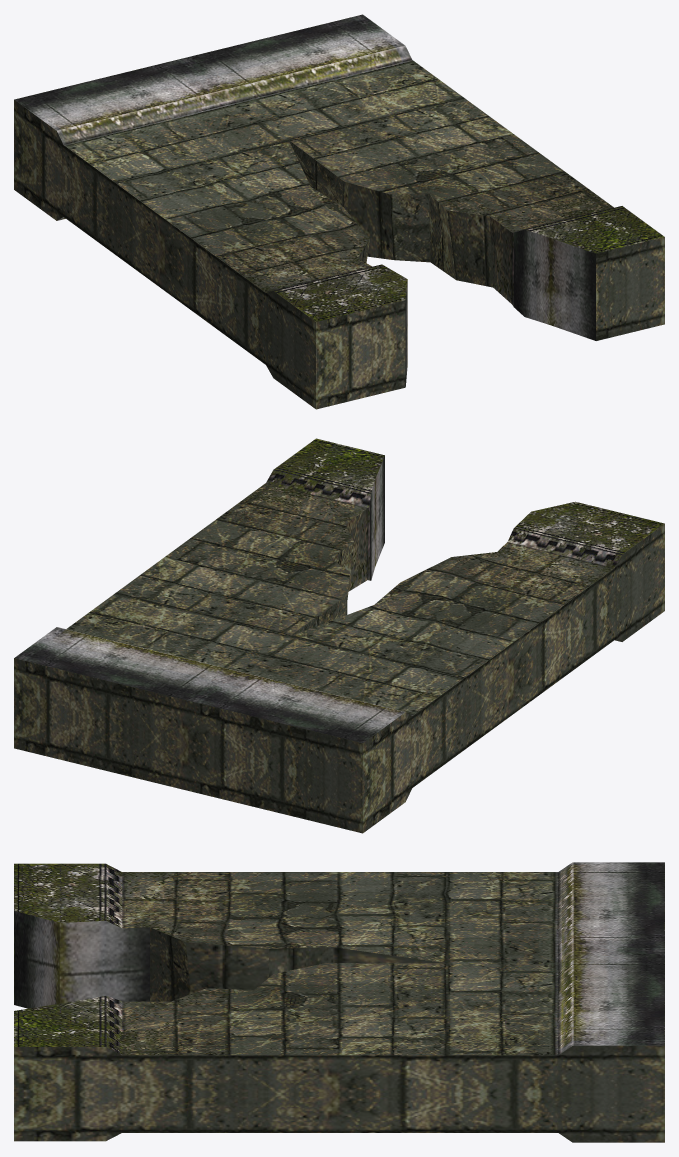
The model's file is Lab_WallBroken.gltf.
3 renders of one model, top to bottom at view 1: azimuth 30°, elevation 25°; view 2: azimuth 150°, elevation 25°; view 3: azimuth 270°, elevation 25°, orthographic. The views are drawn at different scales.
Parts seen in each view (by area): view 1: Lab_WallBroken; view 2: Lab_WallBroken; view 3: Lab_WallBroken.
Boxes of the visible parts, x1,y1,x2,y2 form: Lab_WallBroken: [14, 14, 664, 409]; Lab_WallBroken: [14, 438, 664, 833]; Lab_WallBroken: [14, 862, 664, 1142].
Size of the model in its own units: 0.0325 by 0.00802 by 0.0488.
Materials: 1 (1 with a texture image).
